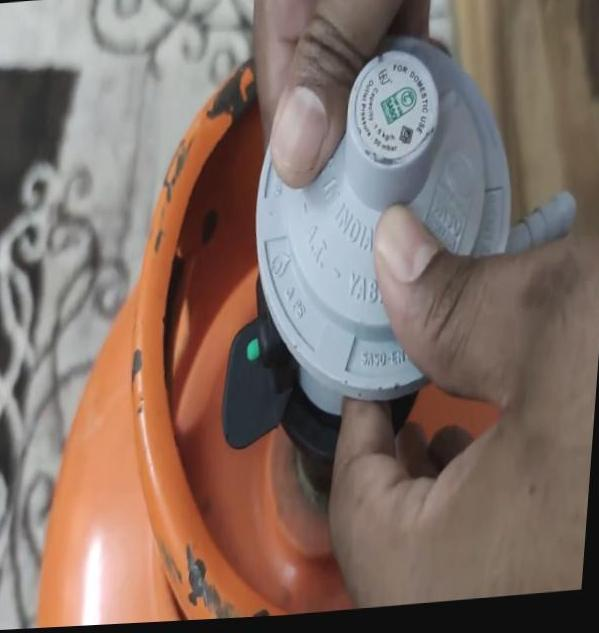cylinder: (1, 1, 599, 633)
